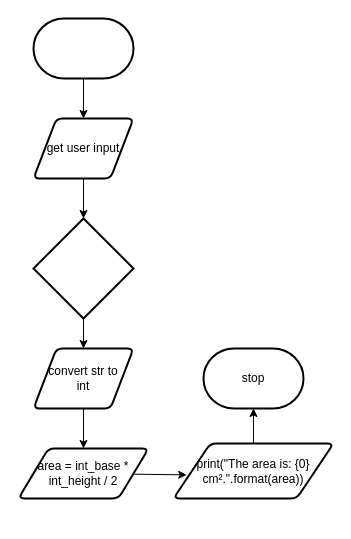
This 351x539 diagram has some shape labels left out. The centre of each missing label's shape, as x and y in pixels:
"start" belongs at point 83,48.
"try" belongs at point 83,268.
